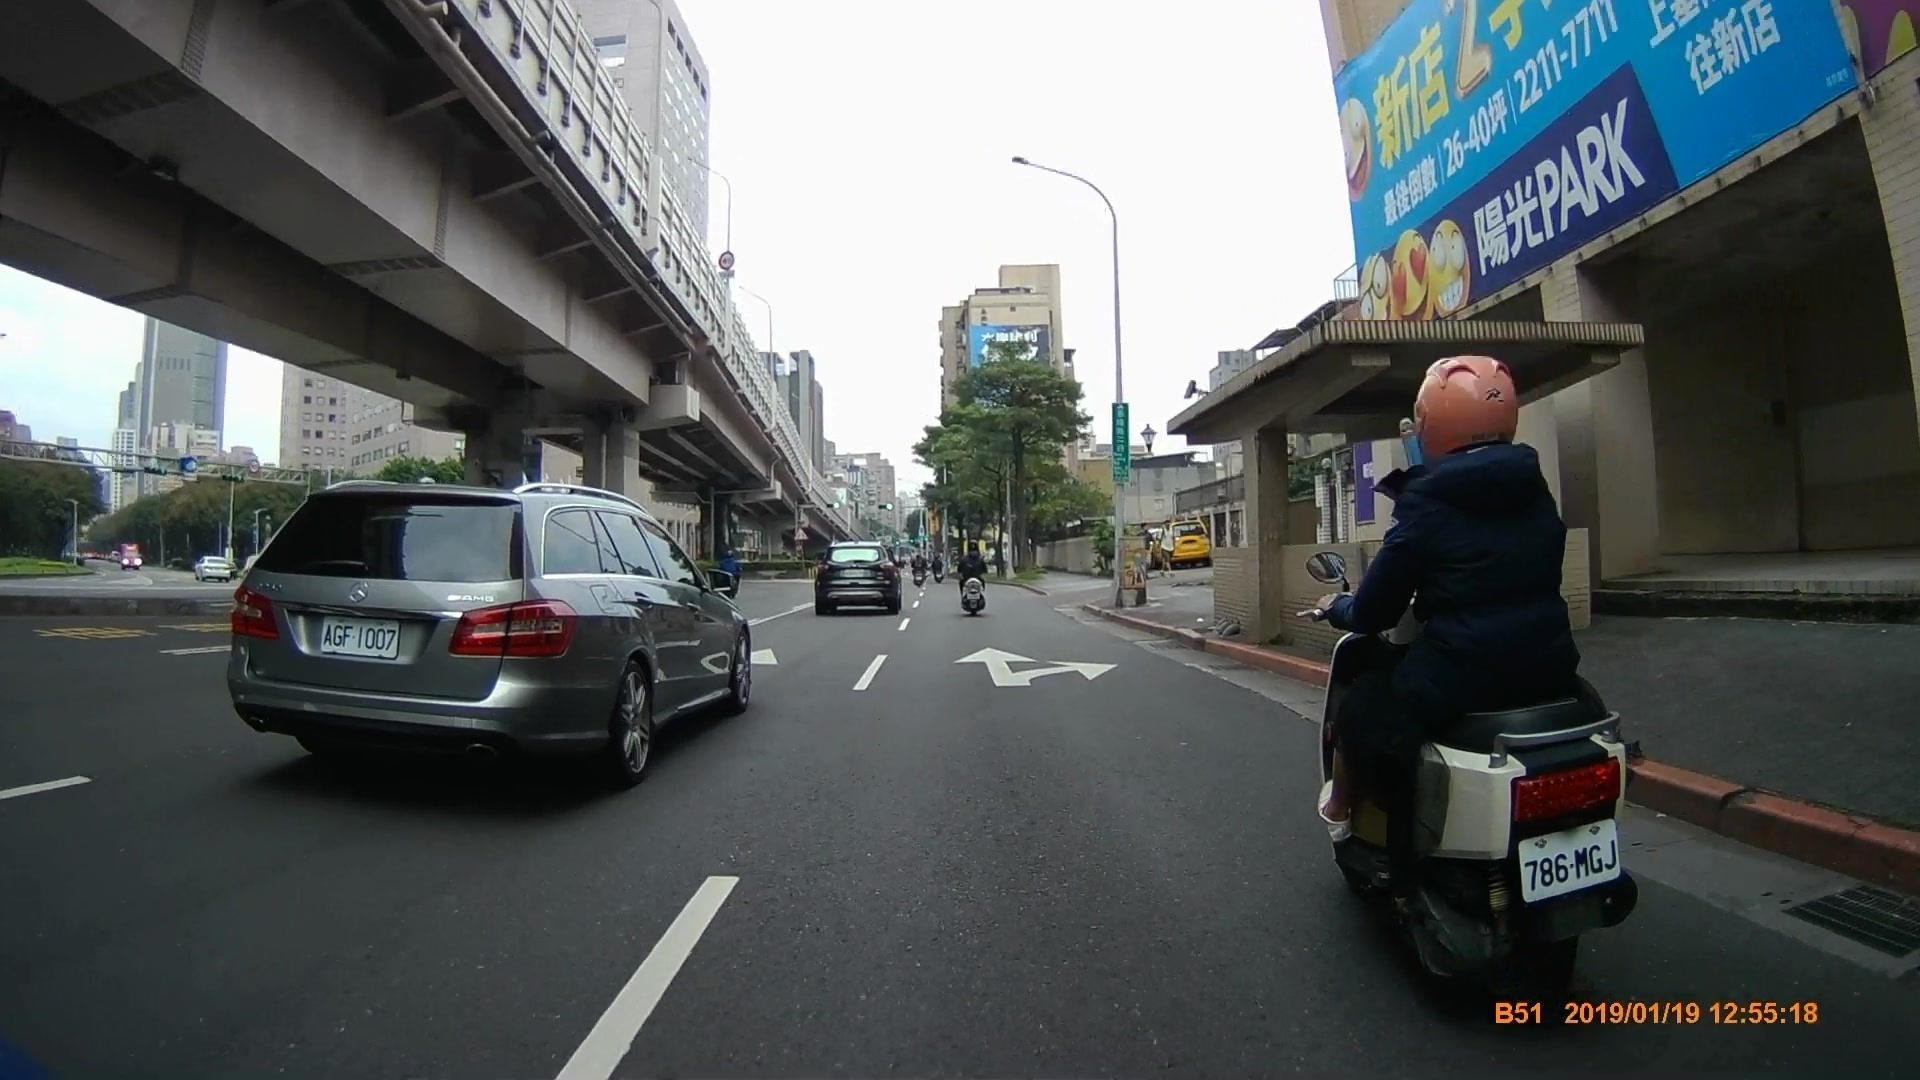License_plate: (1519, 821, 1628, 893), (316, 611, 404, 662)
